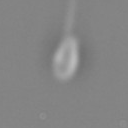normal: (56, 1, 91, 35)
